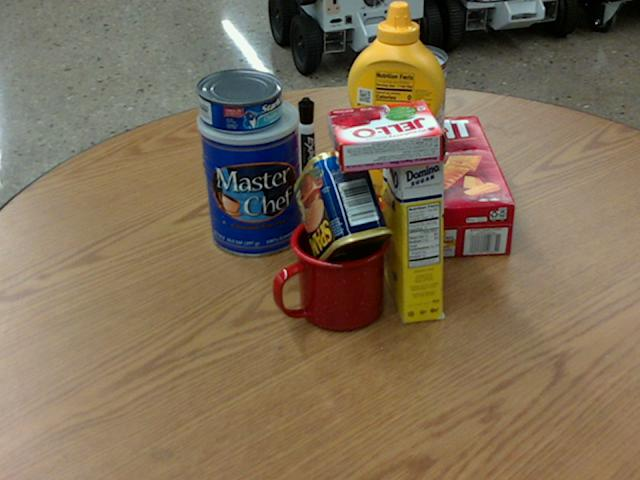cracker_box: (344, 115, 513, 259)
gelatin_box: (328, 99, 444, 171)
large_marker: (297, 99, 316, 198)
master_chef_can: (197, 93, 304, 255)
mug: (269, 213, 387, 332)
mustard_bottle: (347, 1, 445, 196)
potted_meat_can: (293, 148, 393, 270)
sugar_box: (379, 112, 442, 324)
tomato_soup_can: (385, 44, 446, 152)
tuna_fish_can: (195, 68, 281, 131)
